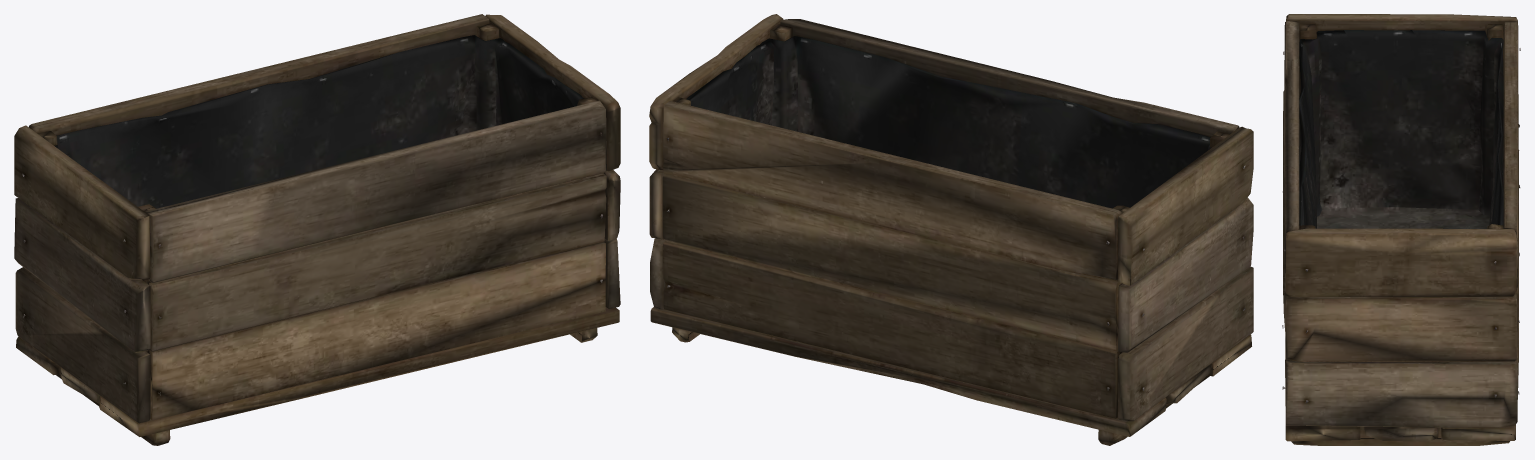
File: planter_box_01.glb
The picture shows the model from 3 angles, left to right: view 1: azimuth 30°, elevation 25°; view 2: azimuth 150°, elevation 25°; view 3: azimuth 270°, elevation 25°; orthographic projection. The views are drawn at different scales.
Visible parts, largest first — view 1: planter_box_01; view 2: planter_box_01; view 3: planter_box_01.
Boxes of the visible parts, bbox=[...] form: planter_box_01: bbox=[14, 14, 620, 445]; planter_box_01: bbox=[649, 14, 1253, 445]; planter_box_01: bbox=[1282, 14, 1520, 445].
Size of the model in its own units: 0.9126 by 0.4249 by 0.4135.
1 material, 1 textured.
